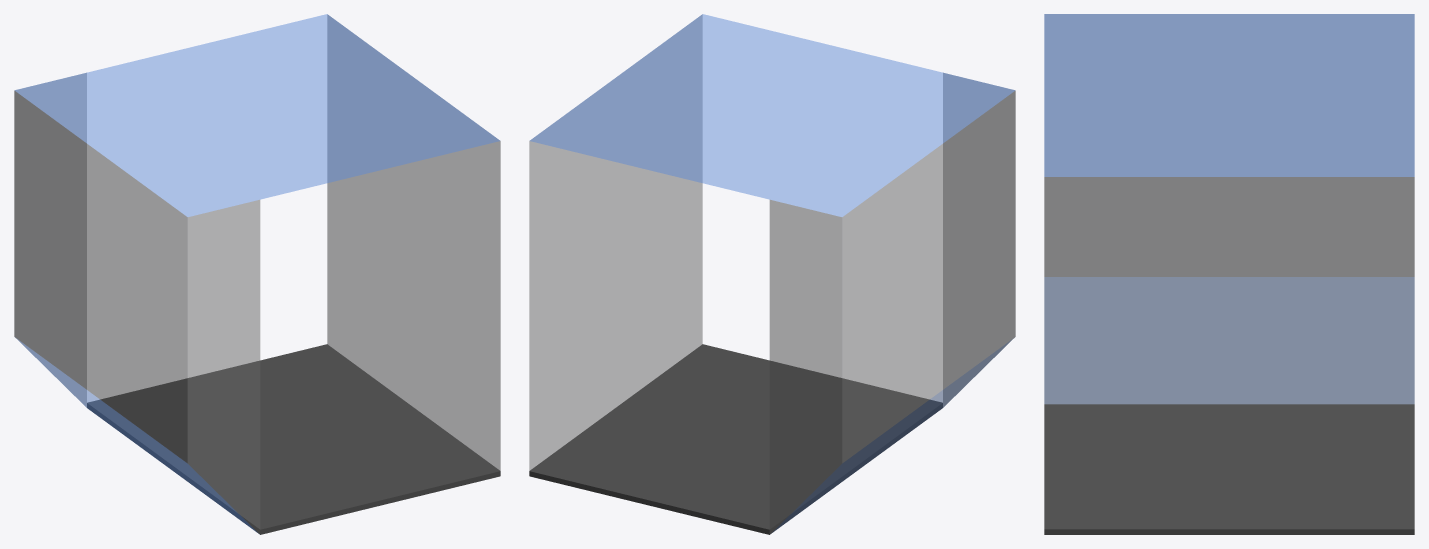
The model's file is dpe.gltf.
3 views of the same model, side by side, from view 1: azimuth 30°, elevation 25°; view 2: azimuth 150°, elevation 25°; view 3: azimuth 270°, elevation 25° (orthographic). The views are drawn at different scales.
Parts seen in each view (by area): view 1: root; view 2: root; view 3: root.
Part boxes in pixels (x1,y1,x2,y2): root: [14, 14, 500, 534]; root: [529, 14, 1015, 534]; root: [1044, 14, 1414, 534].
Bounding box in the file's own units: 1.59 × 1.63 × 1.52.
